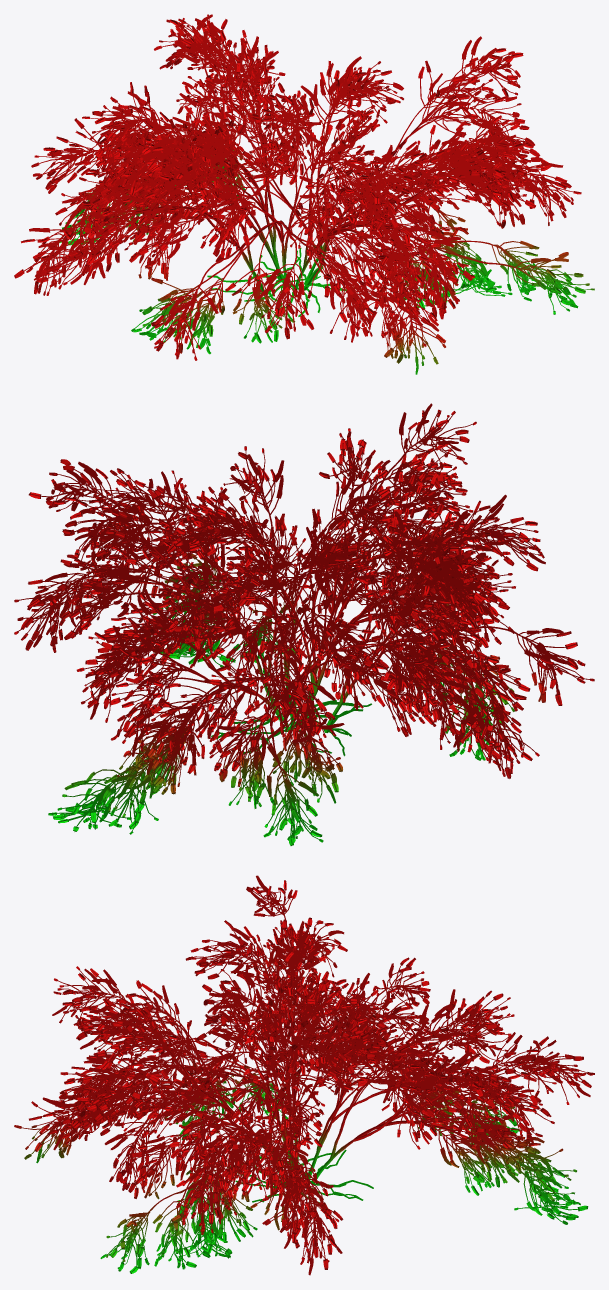
Rendered from Desert Cotton_LOD1_Var8_xeogciyqx.fbx.
3 views of the same model, one above another, from view 1: azimuth 30°, elevation 25°; view 2: azimuth 150°, elevation 25°; view 3: azimuth 270°, elevation 25° (orthographic). The views are drawn at different scales.
Parts seen in each view (by area): view 1: _09wa_Var8_LOD1; view 2: _09wa_Var8_LOD1; view 3: _09wa_Var8_LOD1.
Boxes of the visible parts, x1,y1,x2,y2 form: _09wa_Var8_LOD1: [14, 14, 594, 374]; _09wa_Var8_LOD1: [14, 403, 594, 845]; _09wa_Var8_LOD1: [14, 875, 594, 1275].
Size of the model in its own units: 83.01 by 38.3 by 87.65.
